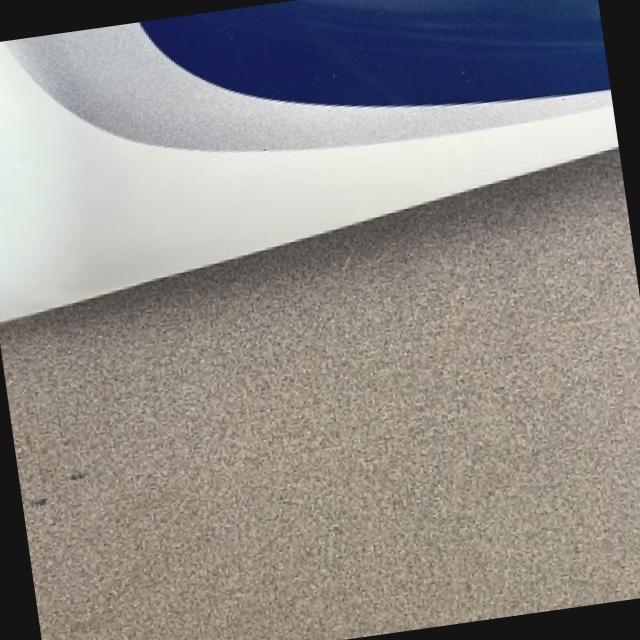healthy: (0, 149, 640, 640), (0, 22, 618, 320)
